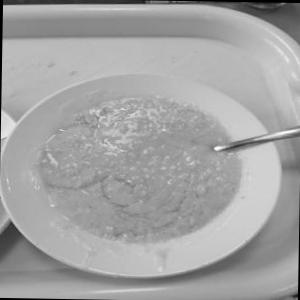porridge: (15, 89, 247, 246)
